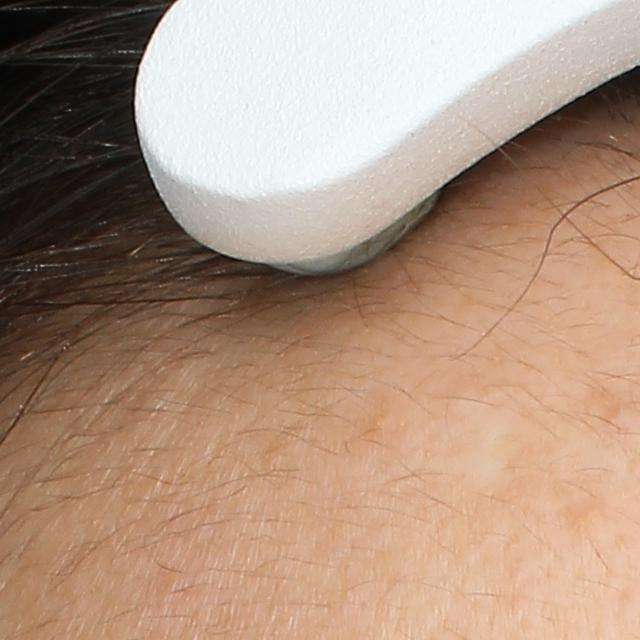other: (395, 393, 555, 508)
